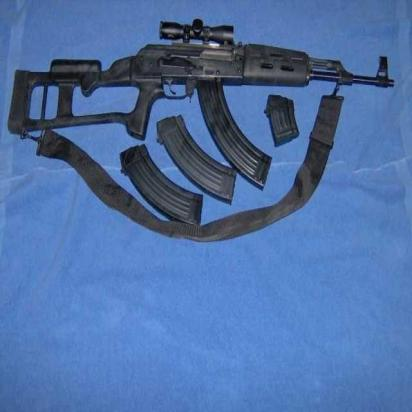Gun: (0, 23, 397, 147)
